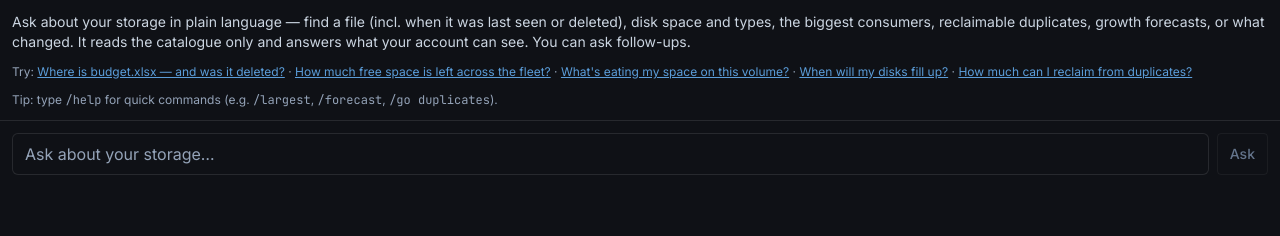
Test: /scope all resets the scope to the estate
The width and height of the screenshot is (1280, 236).
Type "/scope all" into the field named "your question" at (610, 154), box [12,133,1209,175]
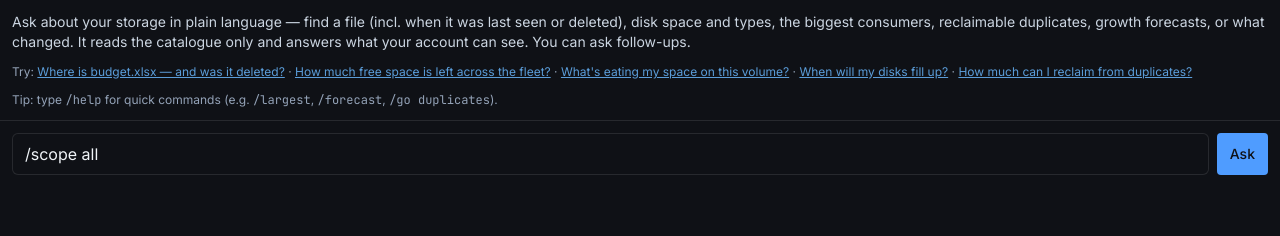
Click the button "Ask" at (1242, 154), box [1217,133,1268,175]
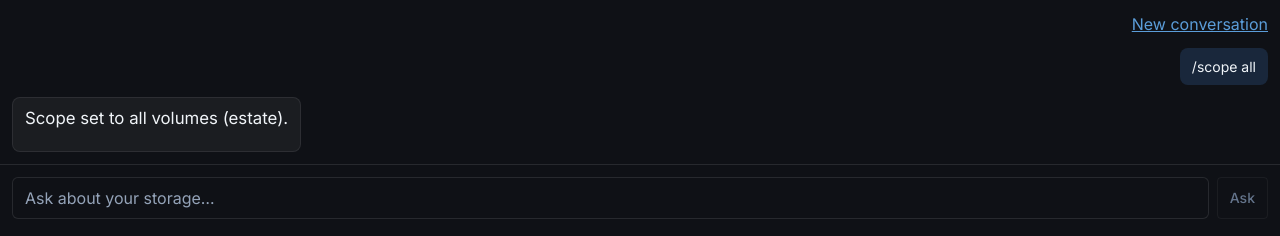
Expected: the text "Scope set to all volumes (estate)." is shown, [25,106,288,131]
